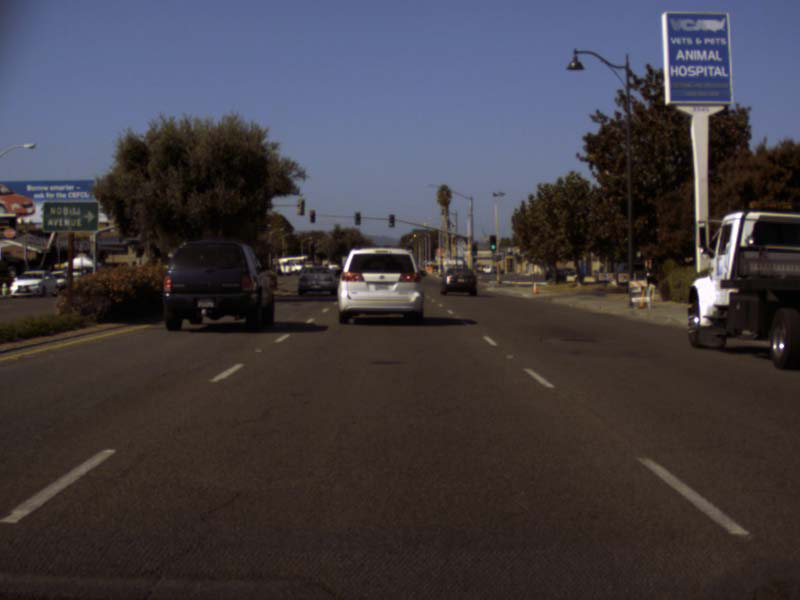Green: (489, 236, 496, 249), (388, 214, 393, 227), (354, 212, 359, 224), (471, 244, 475, 254)
Red: (309, 210, 315, 222)
